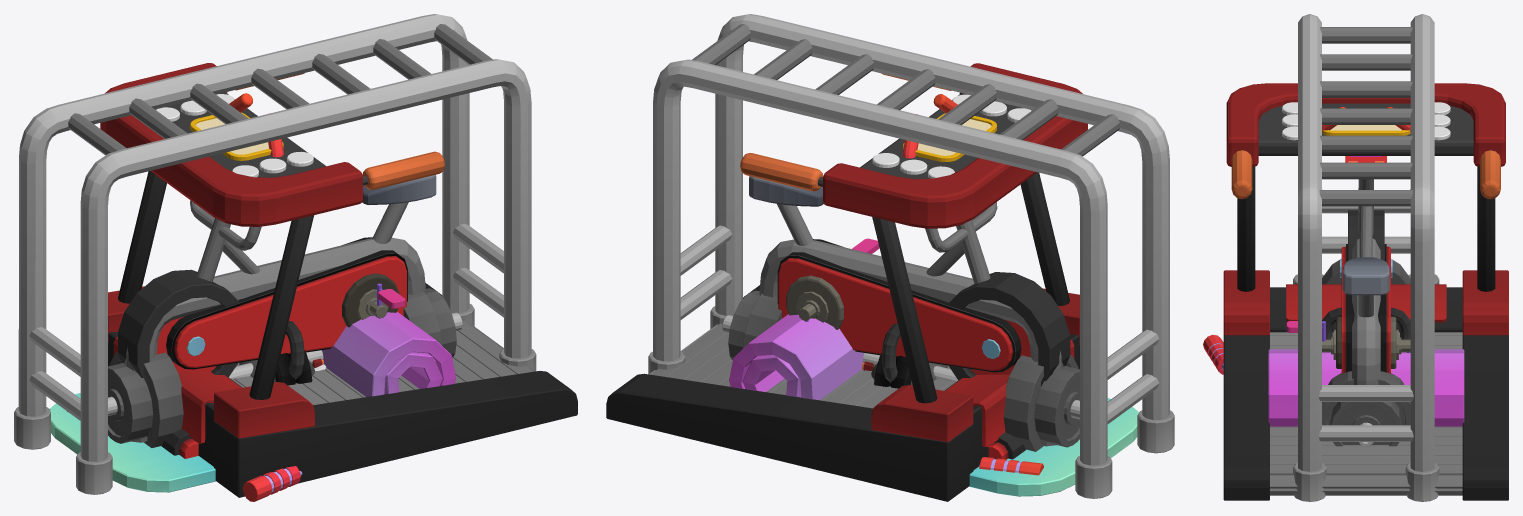
The model's file is Gym.fbx.
3 views of the same model, side by side, from view 1: azimuth 30°, elevation 25°; view 2: azimuth 150°, elevation 25°; view 3: azimuth 270°, elevation 25° (orthographic). The views are drawn at different scales.
Visible parts, largest first — view 1: gym_Funiture_Pack_5, gym_Funiture_Pack_3, gym_Funiture_Pack_1, gym_Funiture_Pack_7, gym_Funiture_Pack_2, gym_Funiture_Pack_6, gym_Funiture_Pack_12, gym_Funiture_Pack_4, gym_Funiture_Pack_8, gym_Funiture_Pack_11; view 2: gym_Funiture_Pack_5, gym_Funiture_Pack_3, gym_Funiture_Pack_1, gym_Funiture_Pack_7, gym_Funiture_Pack_2, gym_Funiture_Pack_6, gym_Funiture_Pack_12, gym_Funiture_Pack_8, gym_Funiture_Pack_11, gym_Funiture_Pack_4; view 3: gym_Funiture_Pack_3, gym_Funiture_Pack_5, gym_Funiture_Pack_1, gym_Funiture_Pack_2, gym_Funiture_Pack_7, gym_Funiture_Pack_6, gym_Funiture_Pack_8, gym_Funiture_Pack_4.
Boxes of the visible parts, box(x1,y1,x2,y2) form: gym_Funiture_Pack_5: box(14, 14, 536, 494); gym_Funiture_Pack_3: box(100, 63, 577, 497); gym_Funiture_Pack_1: box(118, 93, 436, 458); gym_Funiture_Pack_7: box(108, 288, 462, 447); gym_Funiture_Pack_2: box(321, 312, 455, 396); gym_Funiture_Pack_6: box(124, 237, 425, 442); gym_Funiture_Pack_12: box(49, 393, 215, 492); gym_Funiture_Pack_4: box(67, 411, 302, 501); gym_Funiture_Pack_8: box(239, 321, 314, 382); gym_Funiture_Pack_11: box(275, 350, 323, 385); gym_Funiture_Pack_5: box(648, 14, 1174, 498); gym_Funiture_Pack_3: box(606, 63, 1087, 501); gym_Funiture_Pack_1: box(749, 94, 1070, 459); gym_Funiture_Pack_7: box(722, 290, 1079, 451); gym_Funiture_Pack_2: box(729, 314, 864, 400); gym_Funiture_Pack_6: box(759, 239, 1063, 446); gym_Funiture_Pack_12: box(969, 398, 1138, 496); gym_Funiture_Pack_8: box(871, 323, 947, 385); gym_Funiture_Pack_11: box(862, 353, 911, 388); gym_Funiture_Pack_4: box(979, 457, 1043, 475); gym_Funiture_Pack_3: box(1223, 83, 1508, 500); gym_Funiture_Pack_5: box(1293, 14, 1439, 501); gym_Funiture_Pack_1: box(1286, 106, 1410, 373); gym_Funiture_Pack_2: box(1268, 349, 1464, 426); gym_Funiture_Pack_7: box(1322, 260, 1410, 446); gym_Funiture_Pack_6: box(1352, 238, 1380, 384); gym_Funiture_Pack_8: box(1322, 307, 1410, 339); gym_Funiture_Pack_4: box(1203, 334, 1223, 374).
Size of the model in its own units: 299 by 207 by 190.
